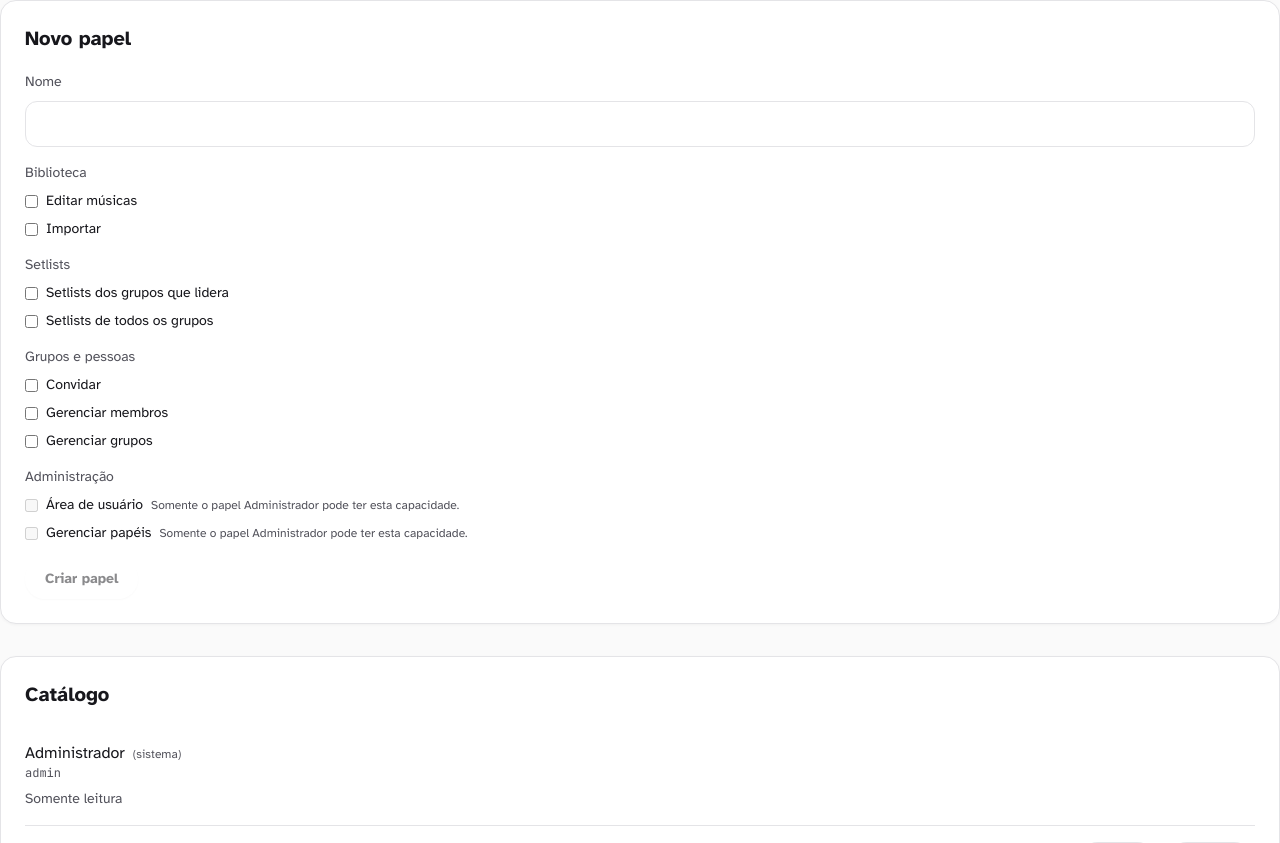
Test: RolesPanel › shows dependency warning when removing a base capability
The image size is (1280, 843).
Expected: the checkbox labelled "Editar músicas" is shown, [25,194,38,208]
Click the checkbox labelled "Importar".
click(32, 229)  # box [25,222,38,236]
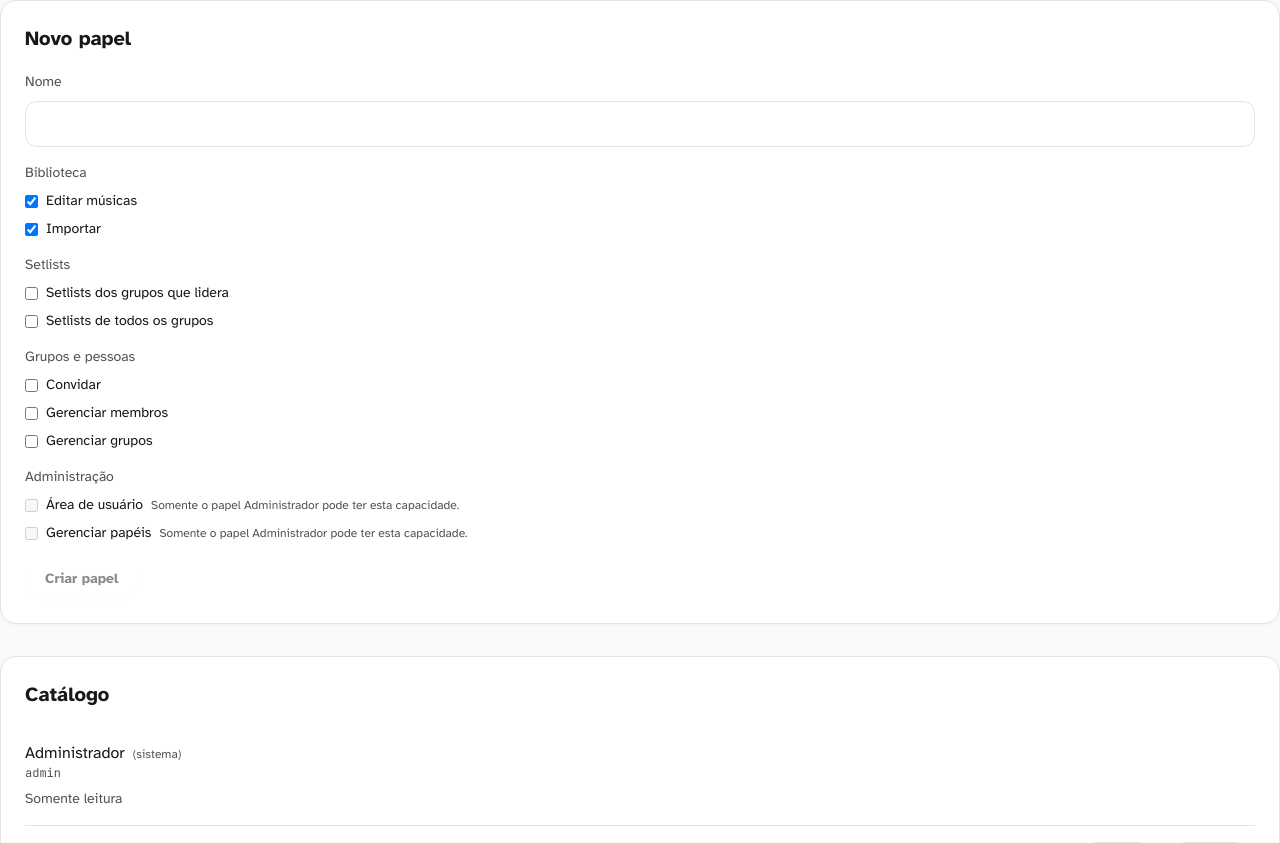
Click the checkbox labelled "Editar músicas".
click(32, 201)  # box [25,194,38,208]
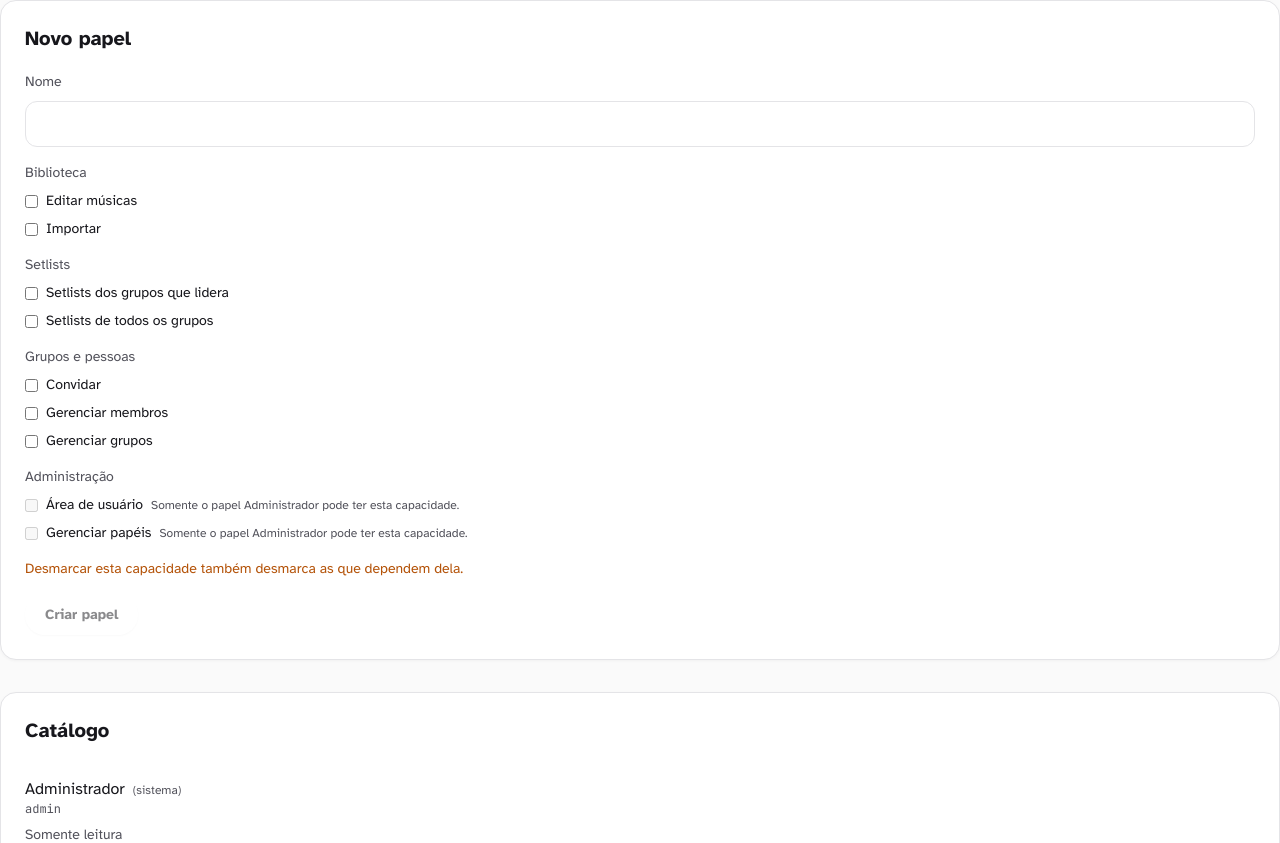
Result: the message reads "Desmarcar esta capacidade também desmarca as que dependem dela." at [25,560,463,577]
